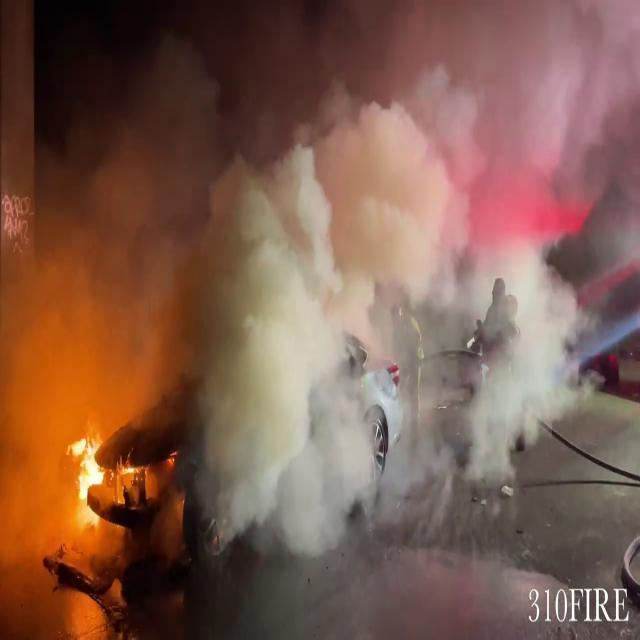Fire: (60, 423, 112, 525)
Smoke: (0, 1, 639, 558)
